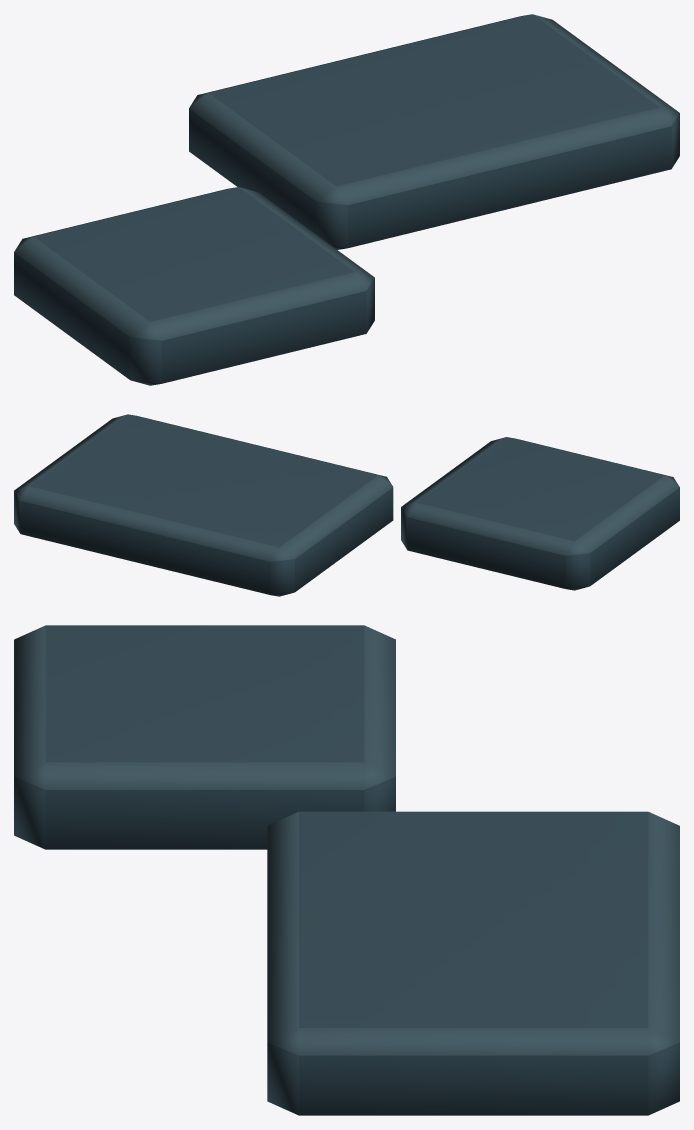
Rendered from stone_path_10.fbx.
3 renders of one model, top to bottom at view 1: azimuth 30°, elevation 25°; view 2: azimuth 150°, elevation 25°; view 3: azimuth 270°, elevation 25°, orthographic. The views are drawn at different scales.
Parts seen in each view (by area): view 1: stone_path_10; view 2: stone_path_10; view 3: stone_path_10.
Boxes of the visible parts, x1,y1,x2,y2 form: stone_path_10: [14, 14, 679, 385]; stone_path_10: [14, 414, 679, 596]; stone_path_10: [14, 625, 679, 1115].
Size of the model in its own units: 192 by 18.28 by 126.
